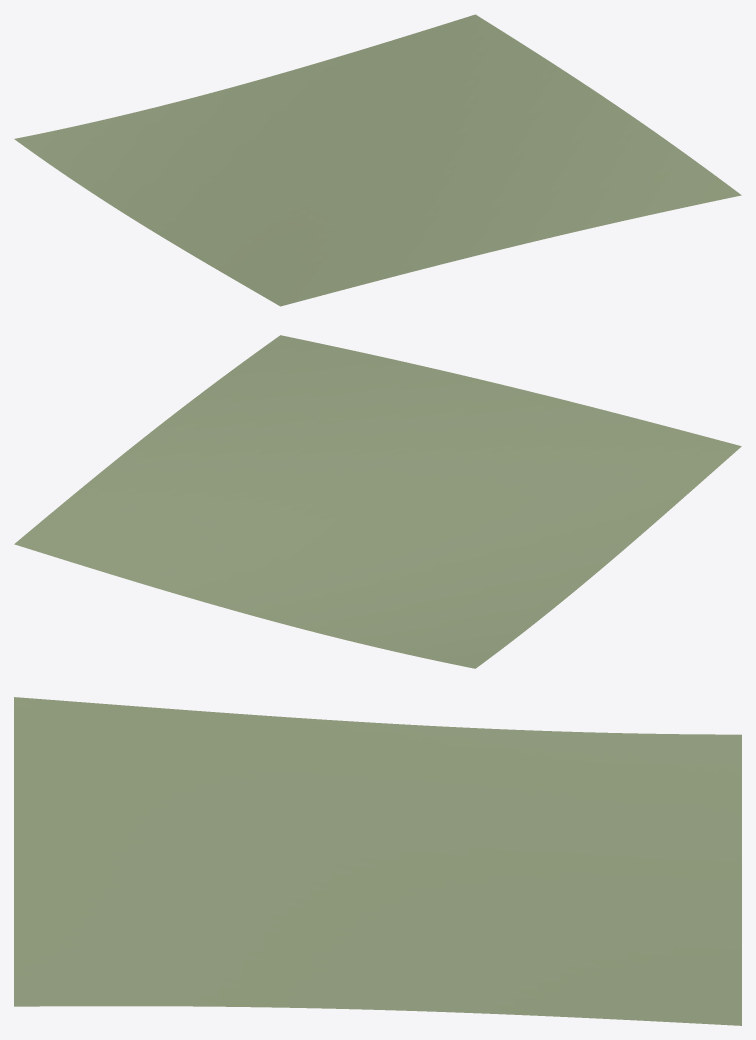
File: alpine-1-15.glb
3 renders of one model, top to bottom at view 1: azimuth 30°, elevation 25°; view 2: azimuth 150°, elevation 25°; view 3: azimuth 270°, elevation 25°, orthographic. The views are drawn at different scales.
Visible parts, largest first — view 1: alpine-1-15; view 2: alpine-1-15; view 3: alpine-1-15.
Part boxes in pixels (box(x1,y1,x2,y2)): alpine-1-15: box(14, 14, 741, 306); alpine-1-15: box(14, 335, 741, 668); alpine-1-15: box(14, 697, 741, 1025).
Size of the model in its own units: 256 by 17.75 by 256.
